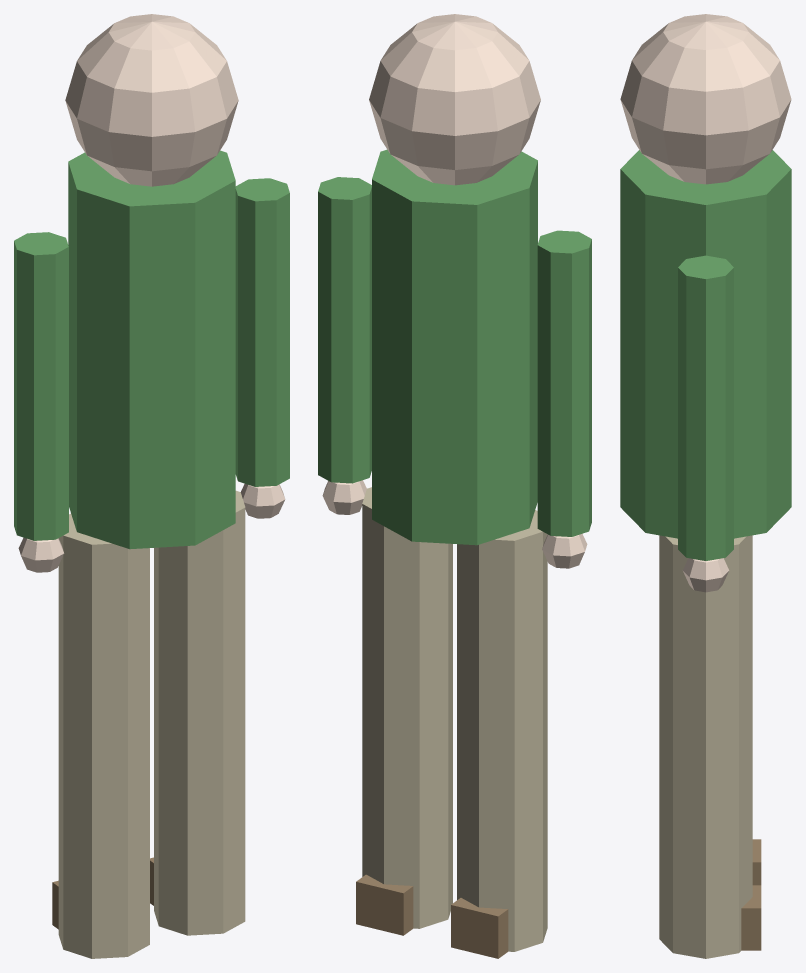
File: greenkeeper.glb
3 views of the same model, side by side, from view 1: azimuth 30°, elevation 25°; view 2: azimuth 150°, elevation 25°; view 3: azimuth 270°, elevation 25° (orthographic).
Parts seen in each view (by area): view 1: Greenkeeper; view 2: Greenkeeper; view 3: Greenkeeper.
Part boxes in pixels (x1=…): Greenkeeper: x1=14, y1=14, x2=289, y2=958; Greenkeeper: x1=318, y1=14, x2=591, y2=958; Greenkeeper: x1=620, y1=14, x2=791, y2=958.
Bounding box in the file's own units: 0.198 × 0.6345 × 0.11.
